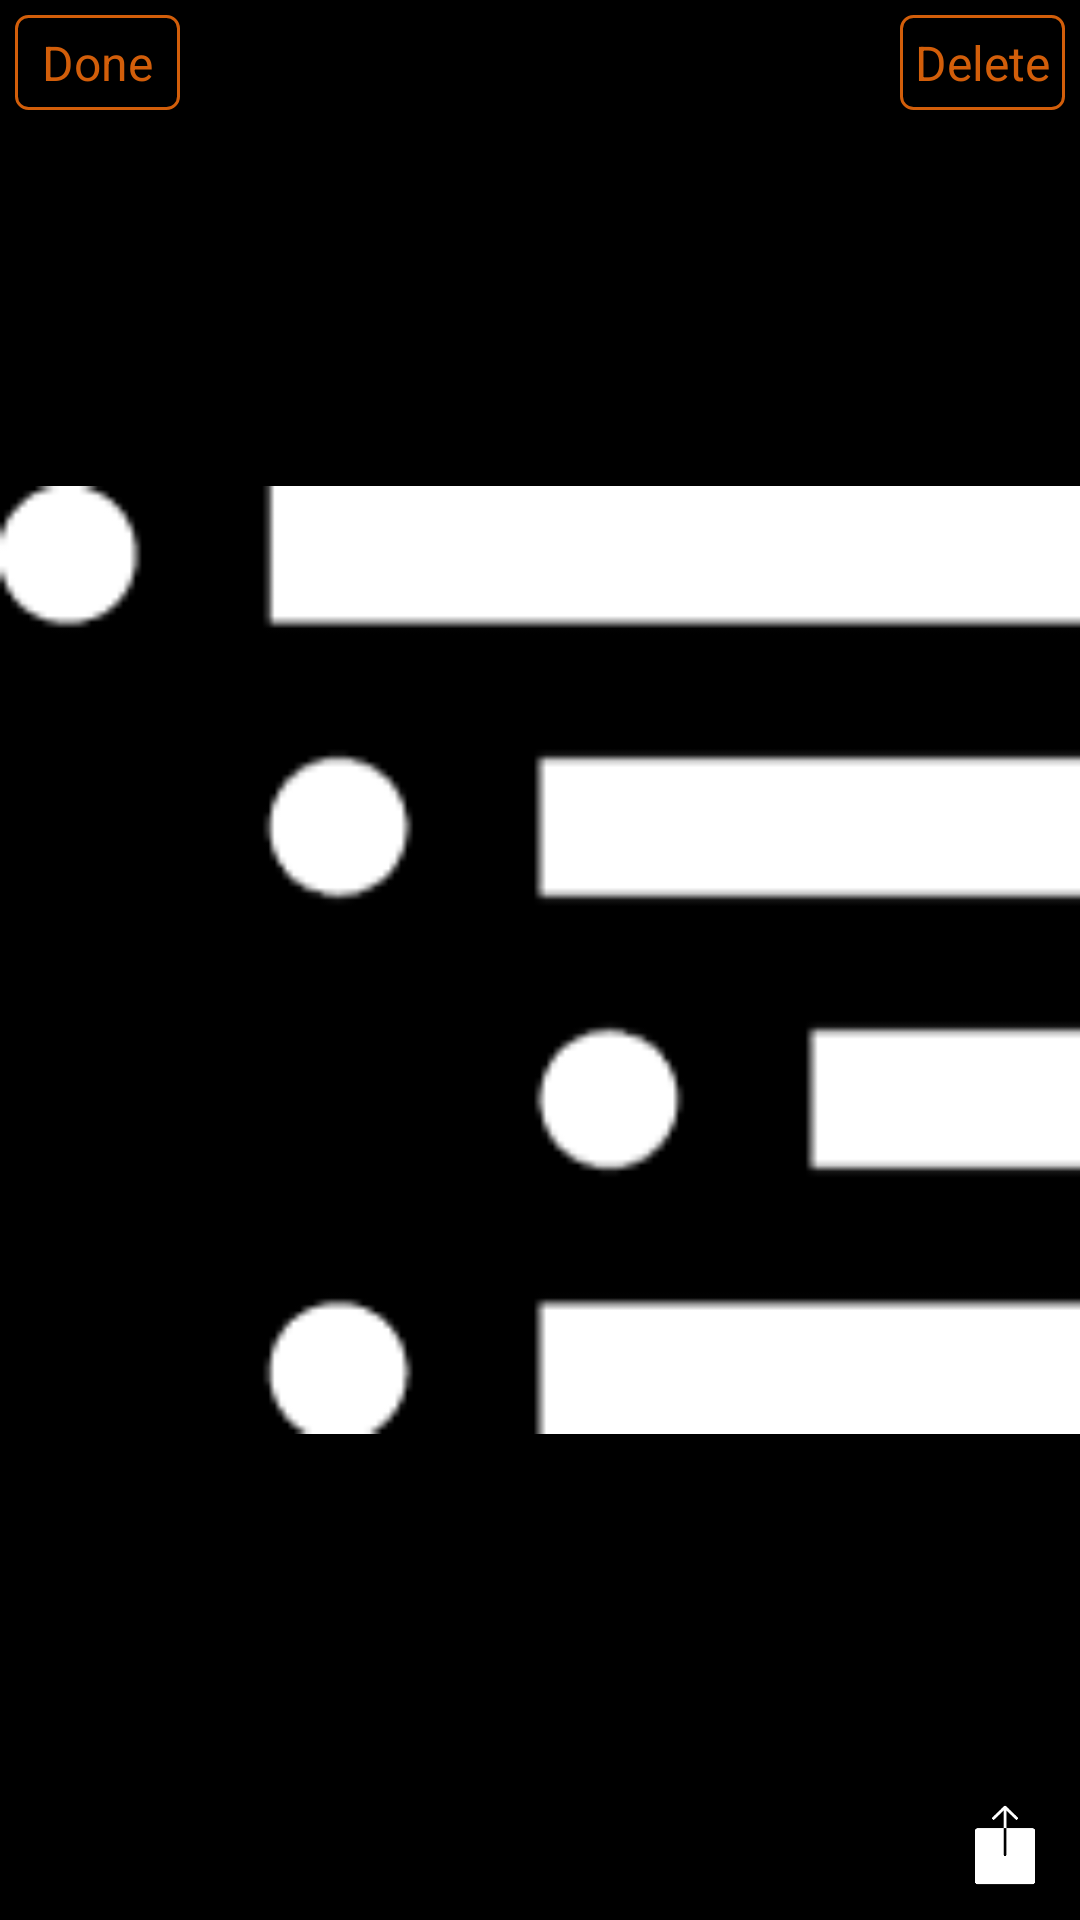

Named icons in this screenshot (1080×1920) and their centers, (x,y):
shareicon: (1005,1845)
